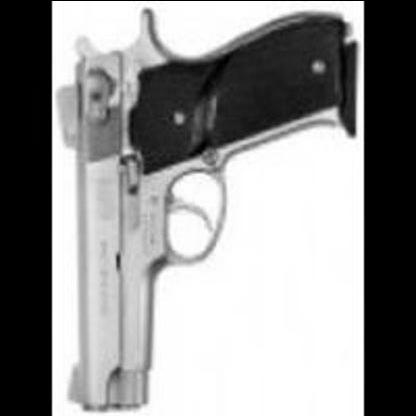weapon: (58, 8, 356, 411)
